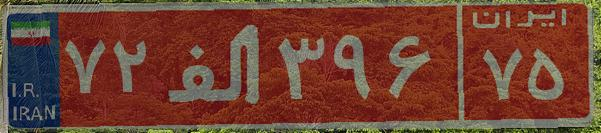2: (110, 28, 158, 105)
3: (273, 28, 330, 110)
5: (525, 38, 570, 115)
6: (385, 28, 445, 110)
7: (57, 26, 110, 107), (475, 38, 525, 113)
9: (330, 28, 385, 110)
الف: (158, 15, 273, 115)
